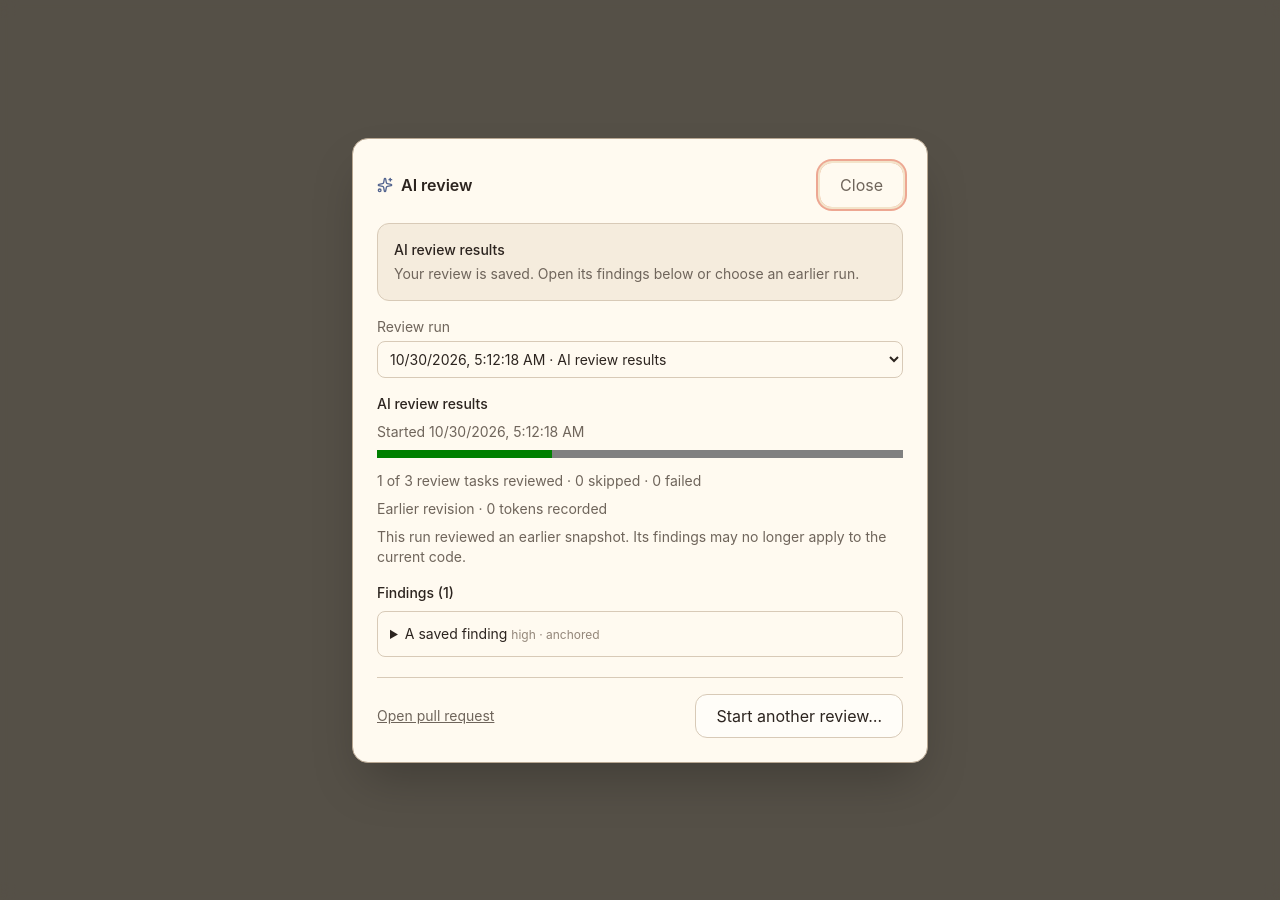
Test: persisted AI review dialog › restores completed findings on remount without starting a review
Check: the heading "A saved finding high · anchored" is shown, box top-left (405, 624), bottom-right (600, 642)
Click the button "Start another review…" at point(799, 716), box top-left (695, 694), bottom-right (903, 738)
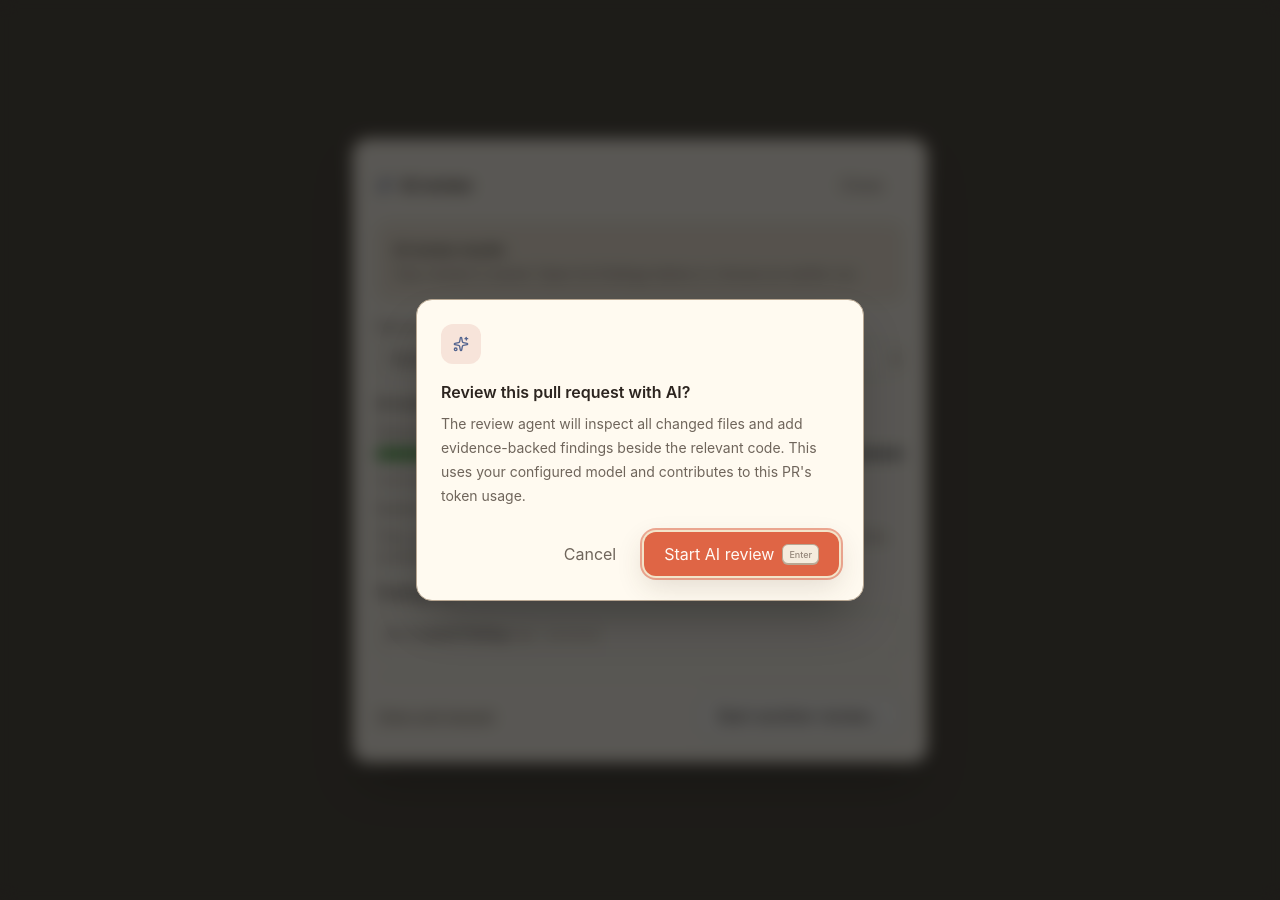
Check: the heading "Review this pull request with AI?" is shown, box top-left (441, 382), bottom-right (690, 402)
